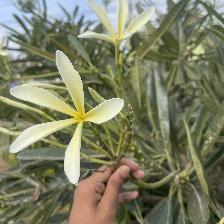champaka: (8, 47, 127, 186), (78, 1, 157, 52)
